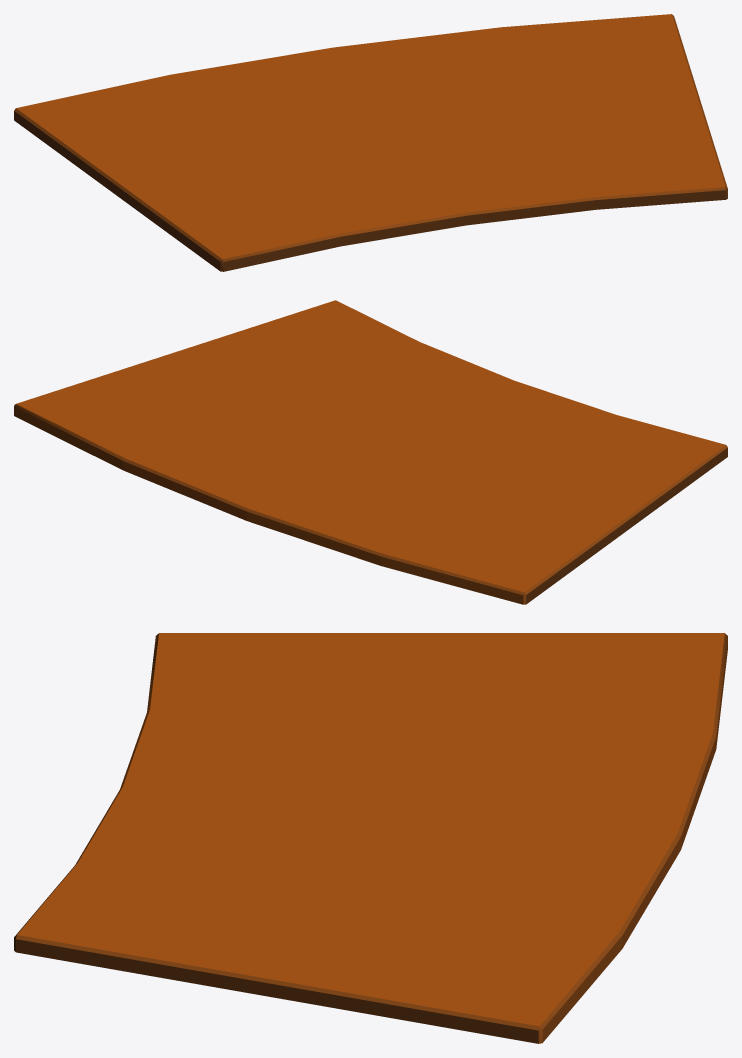
File: ring5.FBX
3 views of the same model, one above another, from view 1: azimuth 30°, elevation 25°; view 2: azimuth 150°, elevation 25°; view 3: azimuth 270°, elevation 25° (orthographic). The views are drawn at different scales.
Visible parts, largest first — view 1: ring5; view 2: ring5; view 3: ring5.
Part boxes in pixels (box(x1,y1,x2,y2)): ring5: box(14, 14, 727, 271); ring5: box(14, 300, 727, 604); ring5: box(14, 633, 727, 1043).
Bounding box in the file's own units: 289 × 5.51 × 220.
1 material, 1 textured.
